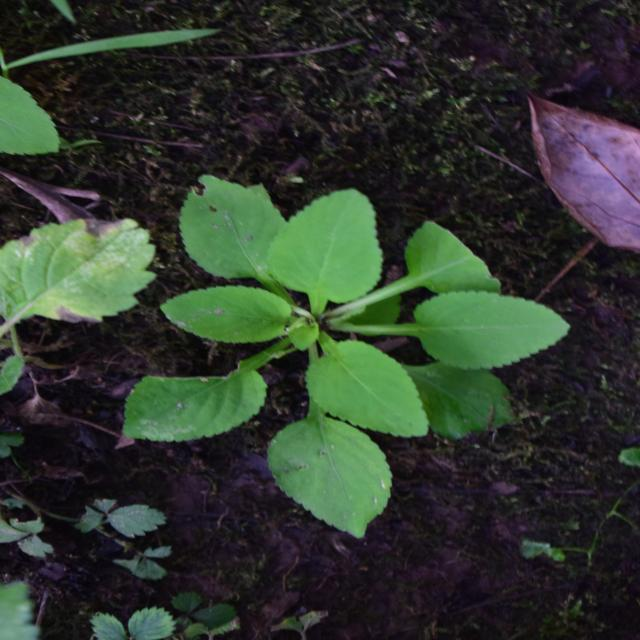Viola: (150, 141, 452, 534)
